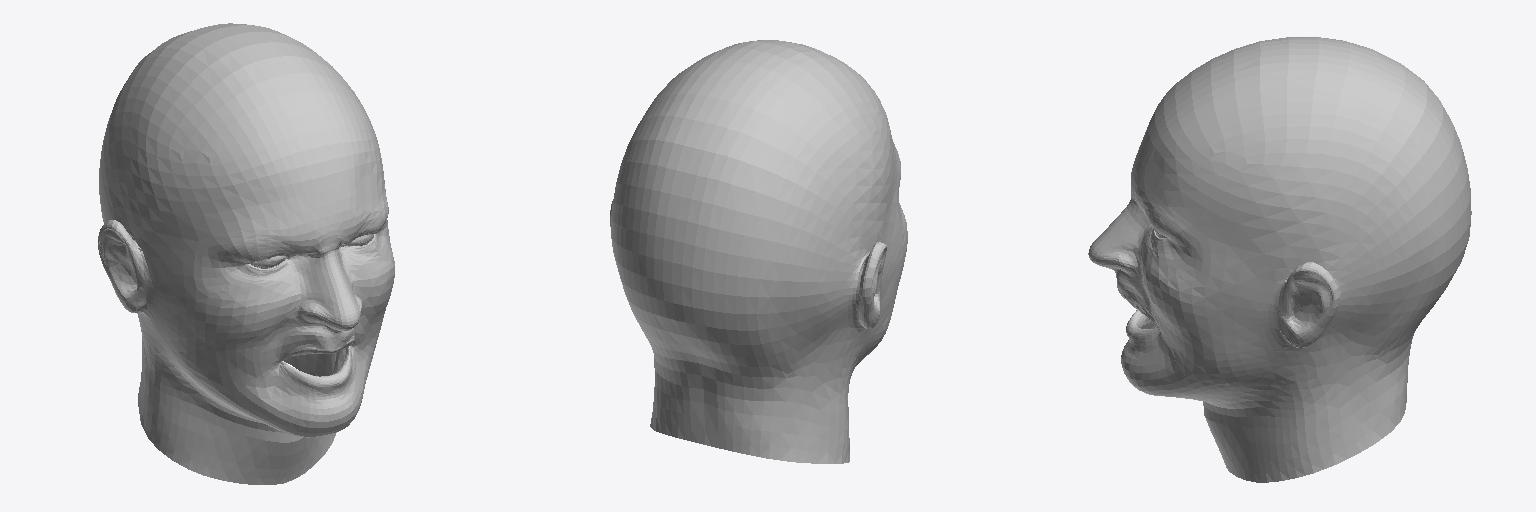
The model's file is MaleFace_ExpressionAnger.obj.
3 views of the same model, side by side, from view 1: azimuth 30°, elevation 25°; view 2: azimuth 150°, elevation 25°; view 3: azimuth 270°, elevation 25° (orthographic).
Size of the model in its own units: 189 by 284 by 237.